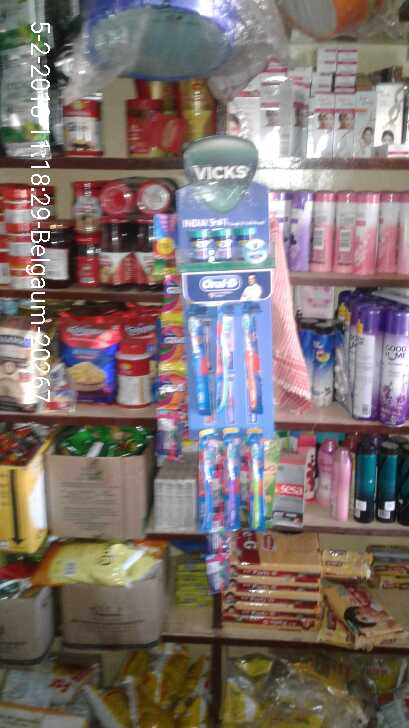pharmacy: (180, 314, 285, 524), (182, 213, 270, 265)
